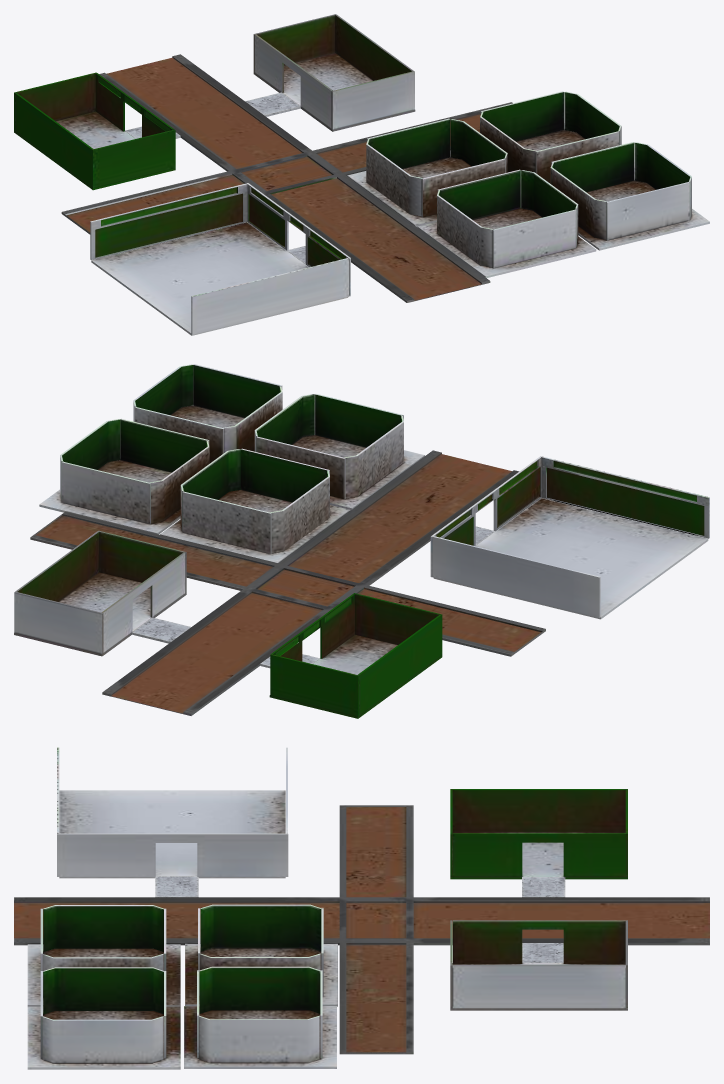
The model's file is ATO4.fbx.
3 renders of one model, top to bottom at view 1: azimuth 30°, elevation 25°; view 2: azimuth 150°, elevation 25°; view 3: azimuth 270°, elevation 25°, orthographic. The views are drawn at different scales.
Visible parts, largest first — view 1: polySurface29; view 2: polySurface29; view 3: polySurface29.
Boxes of the visible parts, x1,y1,x2,y2 form: polySurface29: (14, 14, 709, 335); polySurface29: (14, 364, 709, 718); polySurface29: (14, 747, 709, 1069).
Size of the model in its own units: 75.47 by 5.77 by 80.22.
Materials: 2 (2 with a texture image).
